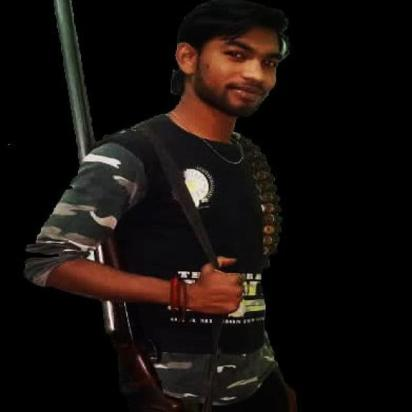Gun: (52, 0, 185, 411)
